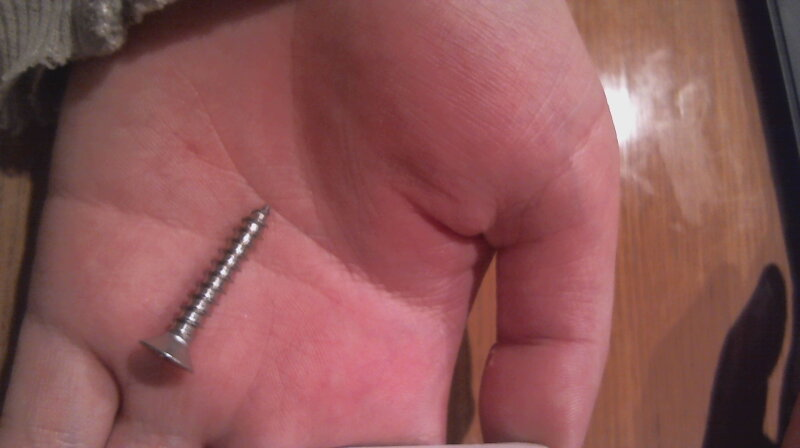S001: (135, 196, 278, 373)
